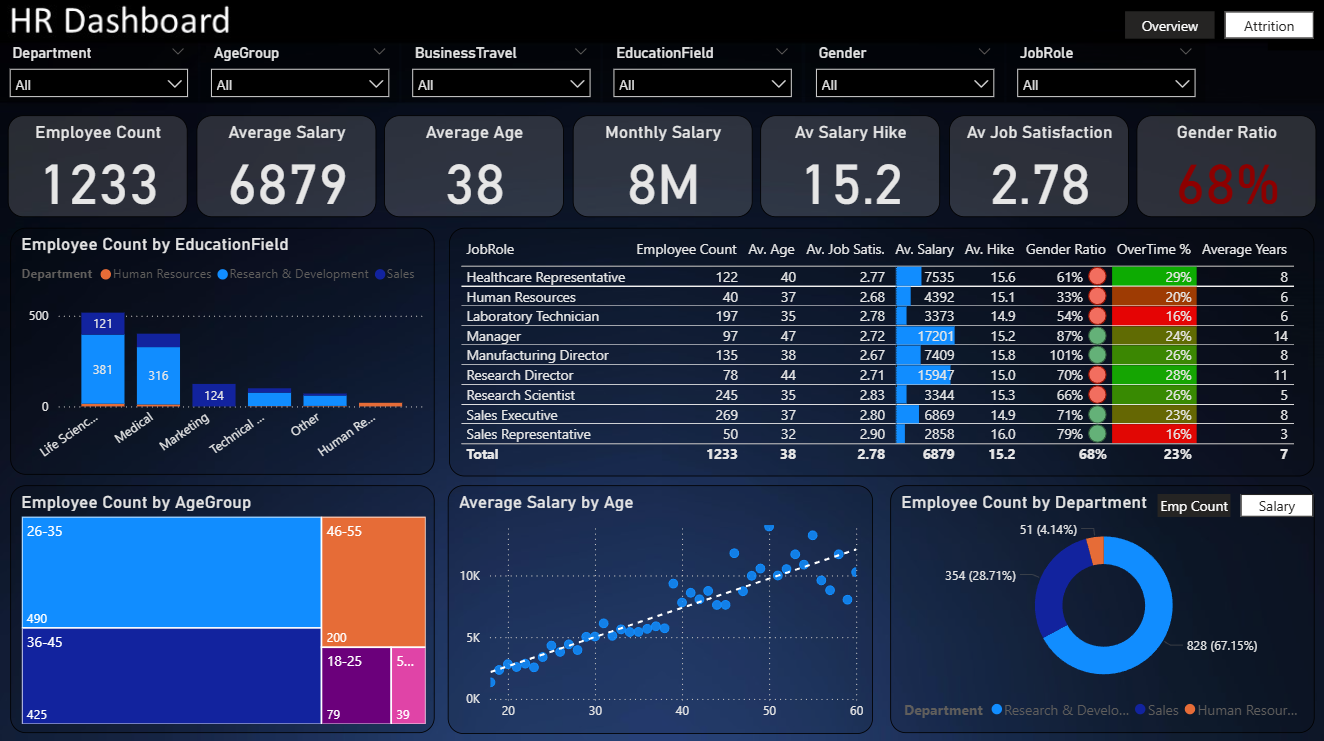

This screenshot's page, from the dashboard's own definition file:
{"tool":"powerbi","page":{"name":"Overview","canvas":[1280,720],"ordinal":0},"visuals":[{"type":"slicer","fields":{"Values":["HR_Analytics.Department"]},"box":[0,39,192,60.7],"z":0},{"type":"card","title":"Employee Count","fields":{"Values":["HR_Analytics.Employee Count"]},"box":[8.7,112.7,173.4,98.2],"z":1000},{"type":"slicer","fields":{"Values":["HR_Analytics.AgeGroup"]},"box":[194.3,39,192.1,60.7],"z":2000},{"type":"slicer","fields":{"Values":["HR_Analytics.BusinessTravel"]},"box":[388.8,39,192.1,60.7],"z":3000},{"type":"slicer","fields":{"Values":["HR_Analytics.EducationField"]},"box":[583.3,39,192.1,60.7],"z":4000},{"type":"slicer","fields":{"Values":["HR_Analytics.Gender"]},"box":[777.8,39,192.1,60.7],"z":5000},{"type":"slicer","fields":{"Values":["HR_Analytics.JobRole"]},"box":[972.3,39,192.1,60.7],"z":6000},{"type":"card","title":"Gender Ratio","fields":{"Values":["HR_Analytics.Gender Ratio"]},"box":[1098,112.7,173.4,98.2],"z":7000},{"type":"card","title":"Average Age","fields":{"Values":["HR_Analytics.Average Age"]},"box":[371.8,112.7,173.4,98.2],"z":8000},{"type":"card","title":"Av Salary Hike","fields":{"Values":["HR_Analytics.Average Salary Hike"]},"box":[734.9,112.7,173.4,98.2],"z":9000},{"type":"card","title":"Average Salary","fields":{"Values":["HR_Analytics.Average Salary"]},"box":[190.2,112.7,173.4,98.2],"z":10000},{"type":"card","title":"Monthly Salary","fields":{"Values":["HR_Analytics.Monthly Salary"]},"box":[553.3,112.7,173.4,98.2],"z":11000},{"type":"card","title":"Av Job Satisfaction","fields":{"Values":["HR_Analytics.Average Job Satisfaction"]},"box":[916.4,112.7,173.4,98.2],"z":12000},{"type":"columnChart","title":"Employee Count by EducationField","fields":{"Category":["HR_Analytics.EducationField"],"Y":["HR_Analytics.Employee Count"],"Series":["HR_Analytics.Department"]},"box":[10.5,221.2,409.7,238.3],"z":13000},{"type":"treemap","fields":{"Values":["HR_Analytics.Employee Count"],"Group":["HR_Analytics.AgeGroup"]},"box":[10.5,469.3,409.7,239.6],"z":14000},{"type":"donutChart","fields":{"Y":["HR_Analytics.Employee Count"],"Category":["HR_Analytics.Department"]},"box":[860.3,469.3,409.7,239.6],"z":15000},{"type":"tableEx","fields":{"Values":["HR_Analytics.JobRole","HR_Analytics.Employee Count","HR_Analytics.Average Age","HR_Analytics.Average Job Satisfaction","HR_Analytics.Average Salary","HR_Analytics.Average Salary Hike","HR_Analytics.Gender Ratio","HR_Analytics.OverTime %","HR_Analytics.Average Years"]},"box":[433.9,220.4,835,239.8],"z":16000},{"type":"scatterChart","fields":{"X":["HR_Analytics.Age"],"Y":["HR_Analytics.Average Salary"]},"box":[433.4,468.9,410,240],"z":17000},{"type":"bookmarkNavigator","box":[1118.2,477.3,150.9,22.7],"z":19000},{"type":"textbox","box":[1224.5,0,55.5,49.5],"z":20000},{"type":"pageNavigator","box":[1087,12.1,182.2,26.5],"z":21000}]}

Visuals, with their boxes in screenshot pixels (x1, y1, x2, y2), scaled from the page's 1280x720 canvas onto the 1324x741 screenshot:
slicer - HR_Analytics.Department: 0, 40, 199, 103
"Employee Count" card: 9, 116, 188, 217
slicer - HR_Analytics.AgeGroup: 201, 40, 400, 103
slicer - HR_Analytics.BusinessTravel: 402, 40, 601, 103
slicer - HR_Analytics.EducationField: 603, 40, 802, 103
slicer - HR_Analytics.Gender: 805, 40, 1003, 103
slicer - HR_Analytics.JobRole: 1006, 40, 1204, 103
"Gender Ratio" card: 1136, 116, 1315, 217
"Average Age" card: 385, 116, 564, 217
"Av Salary Hike" card: 760, 116, 940, 217
"Average Salary" card: 197, 116, 376, 217
"Monthly Salary" card: 572, 116, 752, 217
"Av Job Satisfaction" card: 948, 116, 1127, 217
"Employee Count by EducationField" columnChart: 11, 228, 435, 473
treemap - HR_Analytics.Employee Count x HR_Analytics.AgeGroup: 11, 483, 435, 730
donutChart - HR_Analytics.Employee Count x HR_Analytics.Department: 890, 483, 1314, 730
tableEx - HR_Analytics.JobRole x HR_Analytics.Employee Count: 449, 227, 1313, 474
scatterChart - HR_Analytics.Age x HR_Analytics.Average Salary: 448, 483, 872, 730
bookmarkNavigator: 1157, 491, 1313, 515
textbox: 1267, 0, 1323, 51
pageNavigator: 1124, 12, 1313, 40
